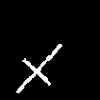single_crochet: (16, 44, 61, 92)
